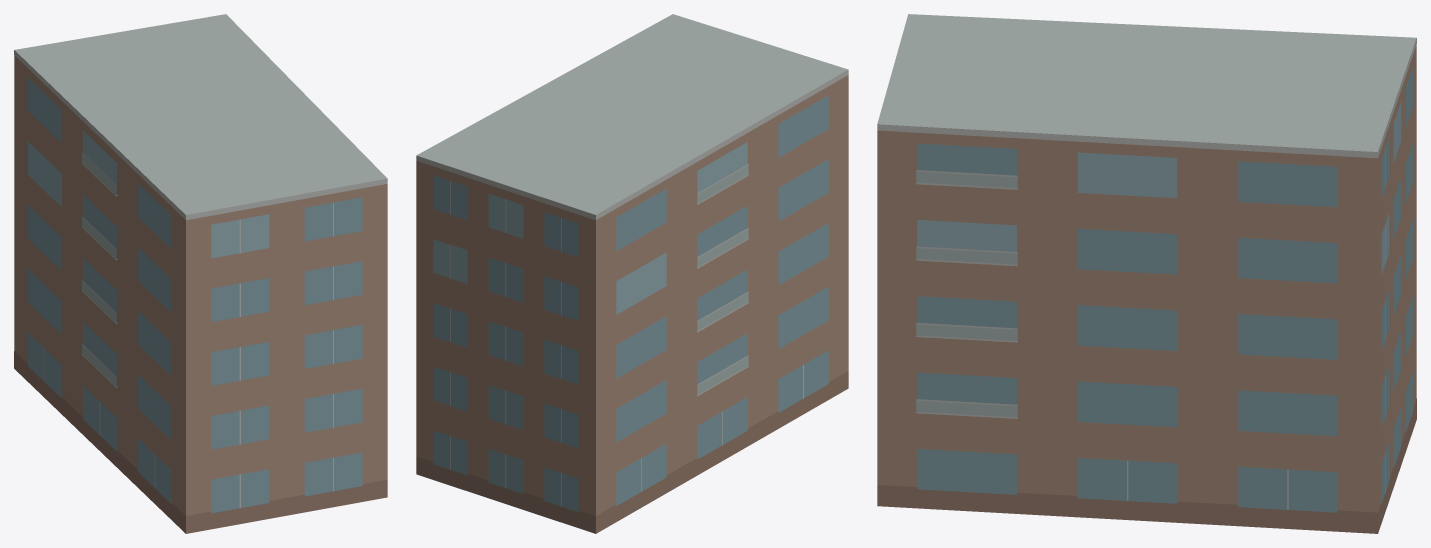
File: survey-upis-32760833.glb
3 views of the same model, side by side, from view 1: azimuth 30°, elevation 25°; view 2: azimuth 150°, elevation 25°; view 3: azimuth 270°, elevation 25° (orthographic). The views are drawn at different scales.
Visible parts, largest first — view 1: survey-upis-32760833.tmp; view 2: survey-upis-32760833.tmp; view 3: survey-upis-32760833.tmp.
Part boxes in pixels (x1,y1,x2,y2): survey-upis-32760833.tmp: (14, 14, 387, 533); survey-upis-32760833.tmp: (416, 14, 848, 533); survey-upis-32760833.tmp: (877, 14, 1416, 533).
Bounding box in the file's own units: 11.64 × 15 × 19.22.
